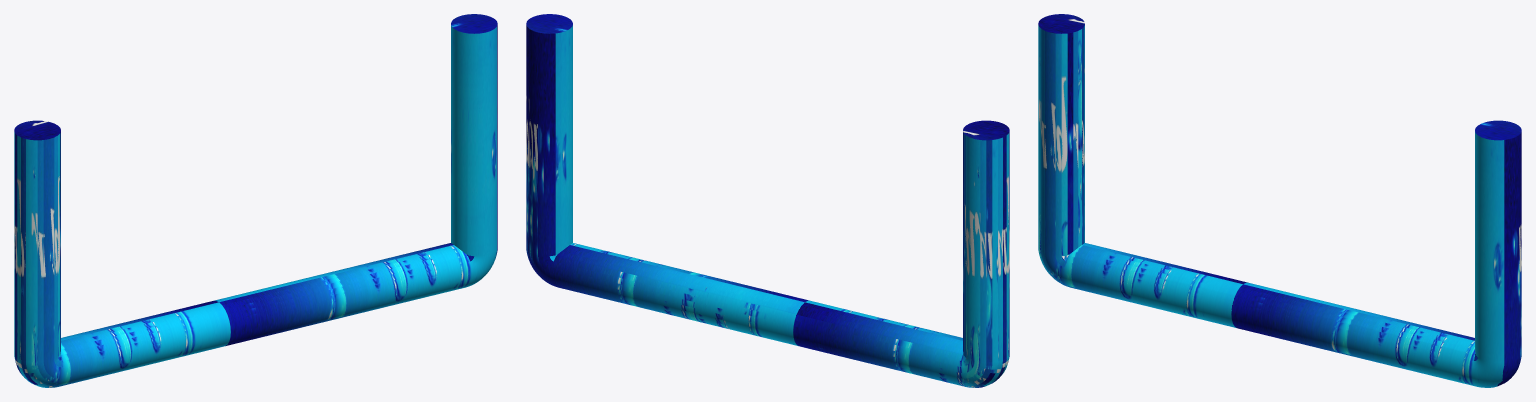
Rendered from original-10.obj.
3 views of the same model, side by side, from view 1: azimuth 30°, elevation 25°; view 2: azimuth 150°, elevation 25°; view 3: azimuth 330°, elevation 25° (orthographic).
Parts seen in each view (by area): view 1: group_6/ID62#ID62; view 2: group_6/ID62#ID62; view 3: group_6/ID62#ID62.
Boxes of the visible parts, box(x1,y1,x2,y2) form: group_6/ID62#ID62: box(14, 14, 497, 387); group_6/ID62#ID62: box(526, 14, 1009, 387); group_6/ID62#ID62: box(1038, 14, 1521, 387).
Size of the model in its own units: 0.3432 by 0.1777 by 0.0292.
